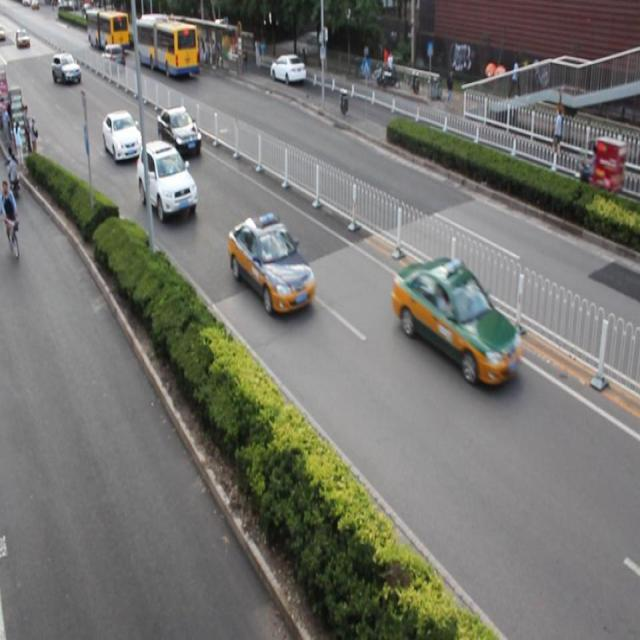car: (391, 254, 520, 387), (227, 210, 315, 314), (137, 138, 197, 222), (157, 104, 202, 158), (102, 109, 144, 164), (270, 53, 307, 86)
van: (134, 13, 198, 78)
